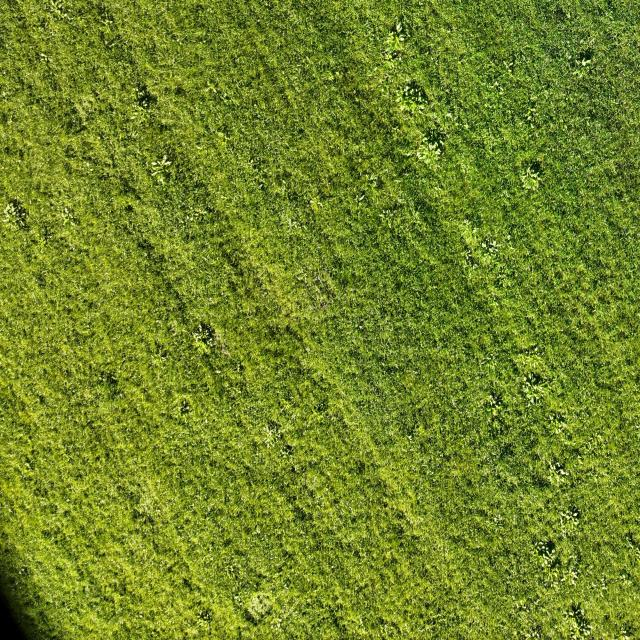rumex: (335, 408, 436, 563), (411, 553, 487, 638), (244, 568, 320, 640), (263, 387, 323, 475), (91, 4, 136, 67), (377, 25, 415, 89), (515, 350, 551, 398), (485, 52, 516, 106), (51, 196, 82, 239), (67, 94, 96, 131), (546, 457, 576, 492), (130, 90, 157, 128), (565, 602, 593, 638), (379, 200, 409, 233), (397, 82, 427, 115), (134, 488, 162, 522), (2, 198, 30, 231), (517, 158, 545, 191), (390, 12, 414, 50), (418, 137, 444, 169), (481, 389, 505, 421), (580, 27, 604, 59), (557, 508, 581, 536), (572, 52, 594, 80), (358, 171, 382, 196), (515, 342, 543, 362), (132, 508, 156, 531), (214, 88, 236, 113), (262, 423, 282, 450), (134, 238, 158, 260), (38, 220, 56, 247), (547, 418, 569, 439), (480, 239, 500, 262), (98, 8, 117, 31), (523, 105, 540, 130), (192, 335, 212, 356), (388, 32, 407, 52), (562, 567, 580, 588), (536, 550, 555, 569), (308, 197, 325, 217), (624, 529, 640, 550), (311, 403, 329, 421), (284, 214, 300, 234), (550, 409, 568, 426), (551, 461, 568, 477), (168, 56, 179, 80), (204, 84, 220, 99), (324, 70, 338, 85), (198, 609, 212, 624), (520, 176, 534, 190), (381, 622, 395, 636), (281, 442, 294, 457), (180, 399, 192, 415), (619, 626, 633, 639), (502, 59, 514, 74), (80, 97, 92, 112), (39, 52, 51, 65), (123, 203, 135, 215), (215, 130, 228, 141), (379, 208, 389, 222), (178, 33, 189, 45), (422, 134, 432, 147), (53, 6, 63, 19), (465, 248, 474, 262), (470, 226, 479, 240), (526, 393, 536, 405), (574, 606, 584, 618), (461, 121, 471, 132), (5, 203, 14, 215), (358, 140, 367, 152), (600, 578, 608, 591), (396, 196, 406, 206), (155, 317, 164, 328), (356, 192, 365, 203), (610, 164, 618, 176), (493, 80, 502, 90), (400, 446, 410, 455), (582, 59, 593, 67), (421, 459, 430, 468), (136, 89, 144, 99), (247, 157, 255, 167), (463, 218, 471, 228), (359, 625, 367, 635), (157, 176, 165, 186), (445, 112, 453, 122), (396, 21, 402, 34), (1, 90, 8, 101), (275, 617, 282, 628), (24, 462, 32, 471), (368, 175, 376, 184), (195, 144, 204, 152), (355, 322, 362, 332), (481, 240, 488, 250), (164, 160, 172, 168), (263, 425, 270, 434), (198, 324, 204, 334), (358, 616, 364, 626), (255, 524, 261, 534), (151, 160, 158, 168), (572, 510, 579, 518), (3, 216, 10, 224), (603, 613, 610, 621), (234, 593, 240, 602), (436, 344, 442, 353), (381, 49, 387, 58), (119, 618, 125, 626), (208, 296, 214, 304), (111, 376, 117, 383), (494, 516, 500, 523), (568, 54, 573, 62), (64, 207, 69, 215), (138, 612, 143, 618), (204, 418, 208, 424)
